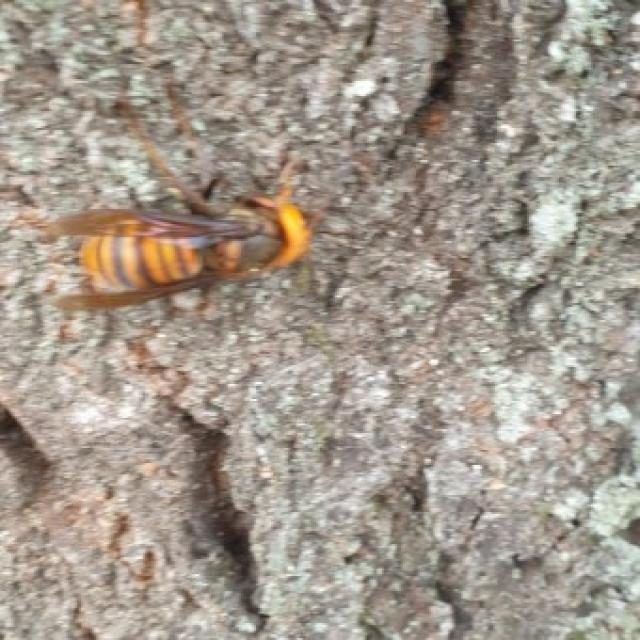Wasp: (35, 144, 324, 314)
